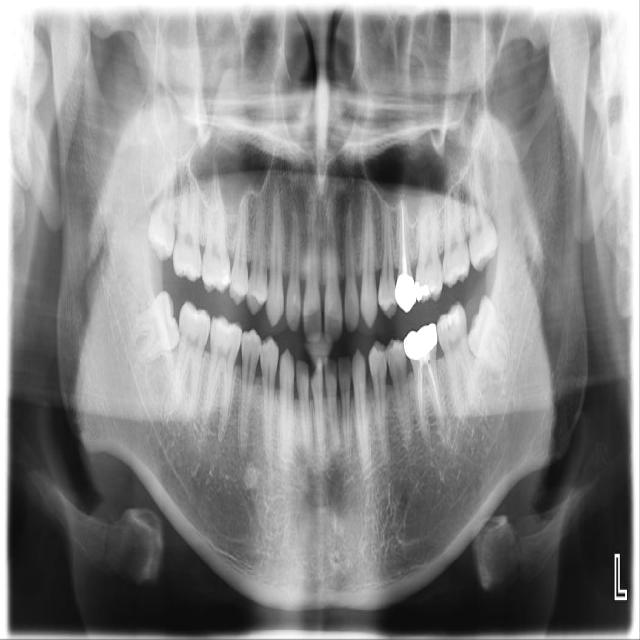Crown: (404, 323, 437, 359), (395, 273, 416, 312)
Filling: (437, 304, 463, 334), (414, 279, 432, 302)
Periapical lesion: (241, 462, 258, 487), (242, 431, 253, 461), (440, 416, 447, 433)
Root Canal Treatment: (426, 363, 440, 413), (417, 358, 424, 426), (402, 208, 407, 275)
impacted tooth: (120, 289, 179, 362), (468, 295, 512, 375)
